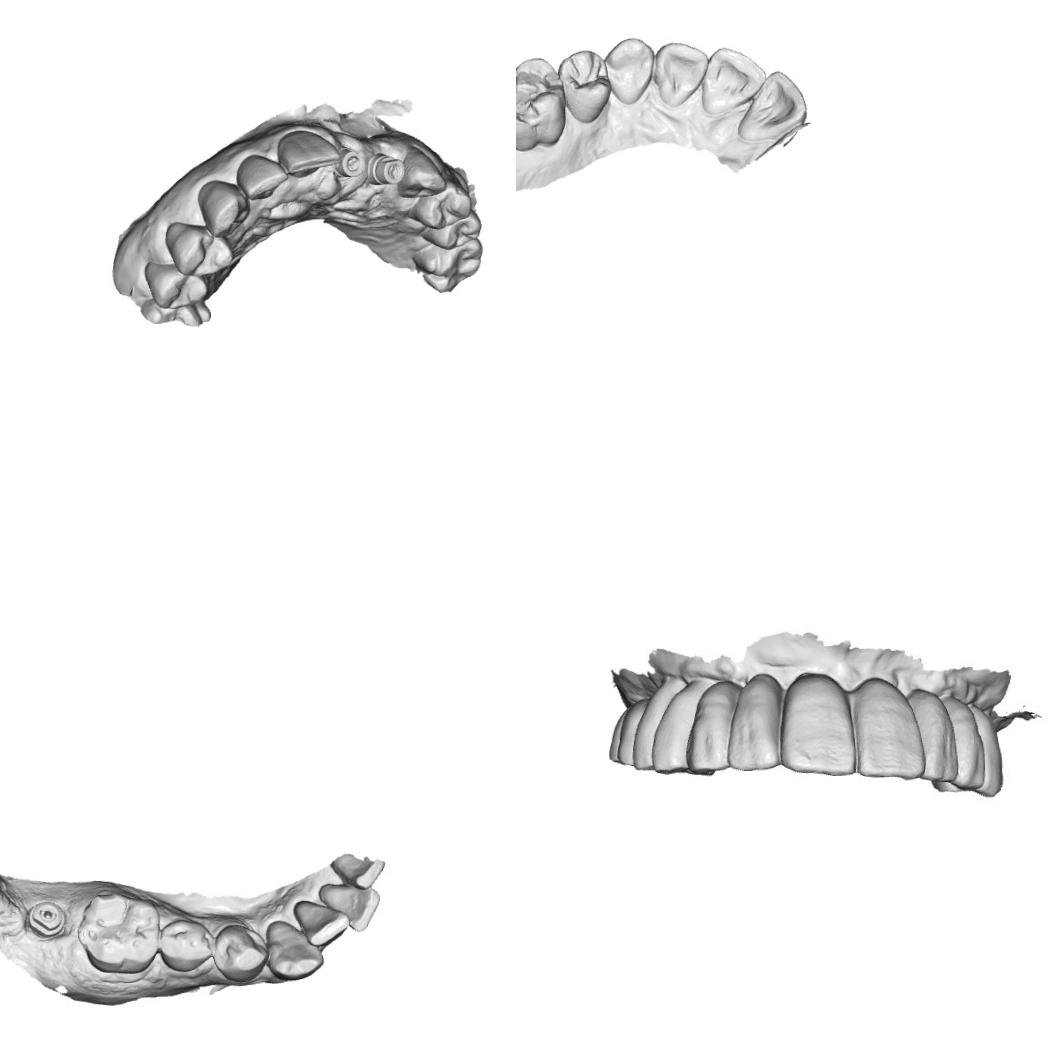canine: (681, 678, 740, 776), (264, 917, 326, 982), (192, 176, 253, 240), (602, 36, 656, 106), (949, 698, 986, 799), (394, 142, 449, 200)
implant: (364, 148, 408, 188), (331, 143, 368, 182)
implant_minus: (20, 898, 68, 945)
incisor: (774, 670, 857, 782), (847, 672, 924, 784), (722, 670, 792, 774), (734, 68, 809, 144), (904, 687, 958, 786), (698, 45, 768, 115), (652, 40, 712, 108), (273, 127, 343, 180), (318, 880, 382, 935), (291, 897, 350, 950), (234, 150, 290, 202)
inlay: (516, 68, 555, 127)
molar: (75, 887, 163, 975), (412, 234, 486, 296)
premolar: (162, 218, 236, 278), (556, 47, 612, 126), (138, 258, 212, 314), (404, 177, 476, 231), (212, 921, 271, 984), (158, 916, 216, 974), (418, 204, 483, 252)
